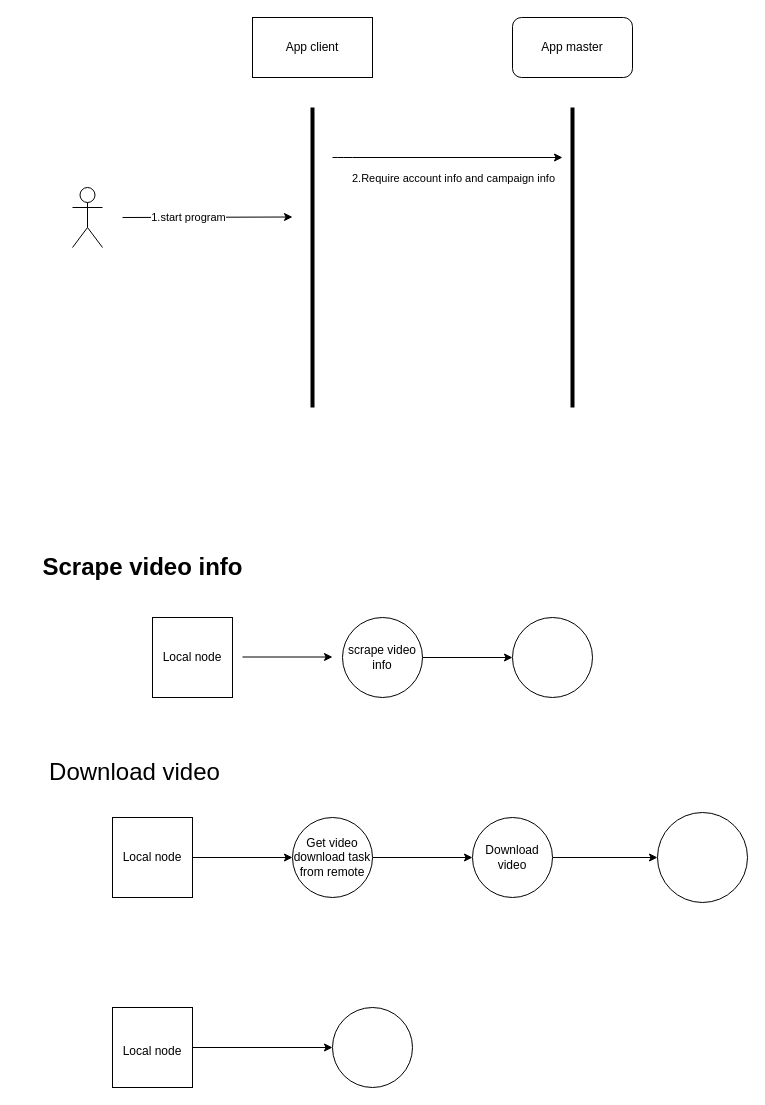
Some shapes in this 765 by 1105 pixel diagram are drawn without their labels. Each missing label, with the box of its shape:
Actor: (72, 186, 102, 248)
Convert viedo(translate ): (656, 812, 748, 902)
save video info to remote server: (512, 616, 592, 698)
Upload video: (332, 1006, 412, 1088)
